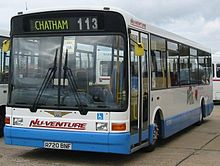bus: (7, 8, 220, 155)
